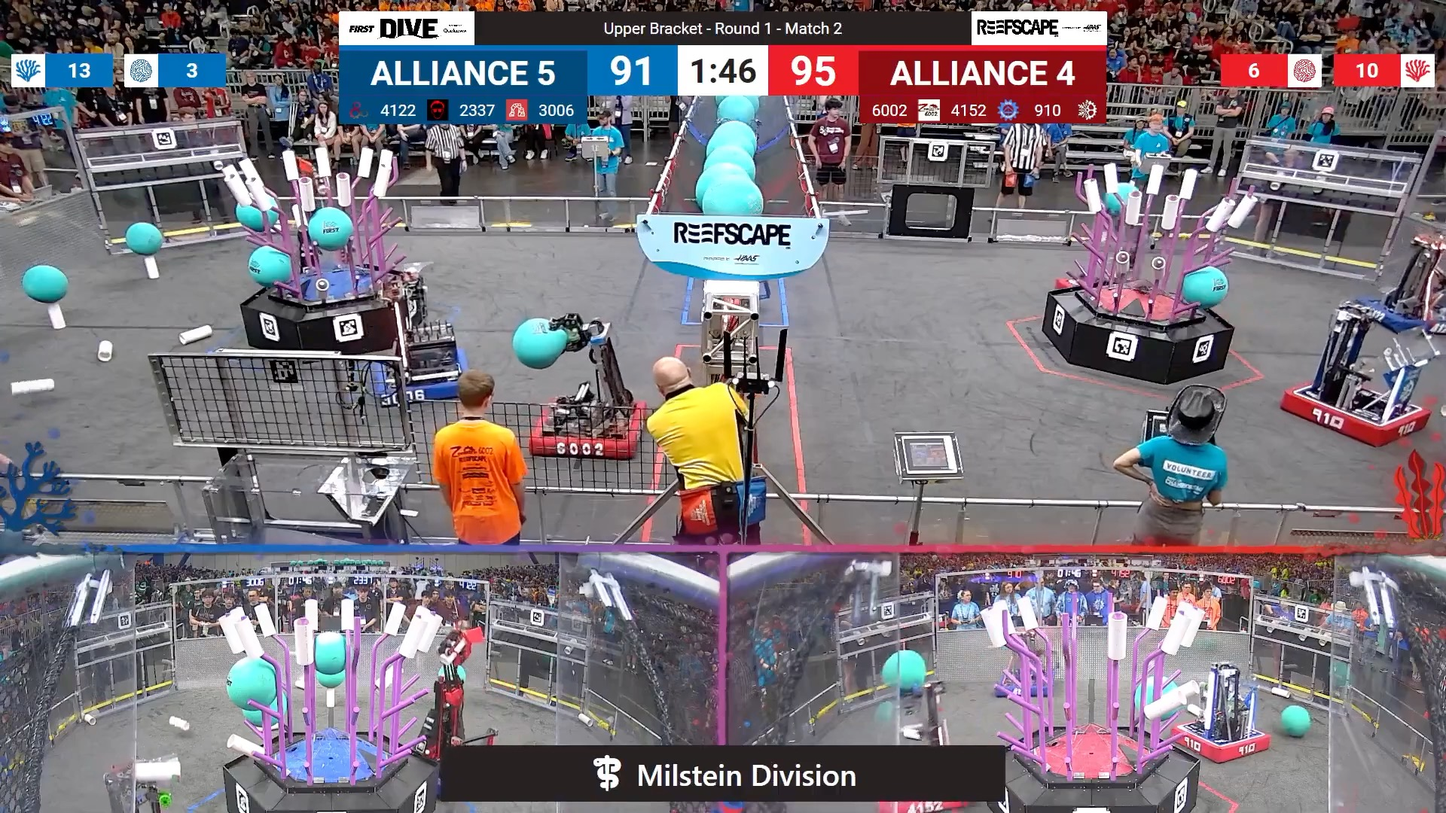bumpers: (1271, 379, 1429, 450), (524, 396, 653, 462), (362, 343, 474, 406), (1167, 719, 1277, 764), (1353, 293, 1445, 339)
